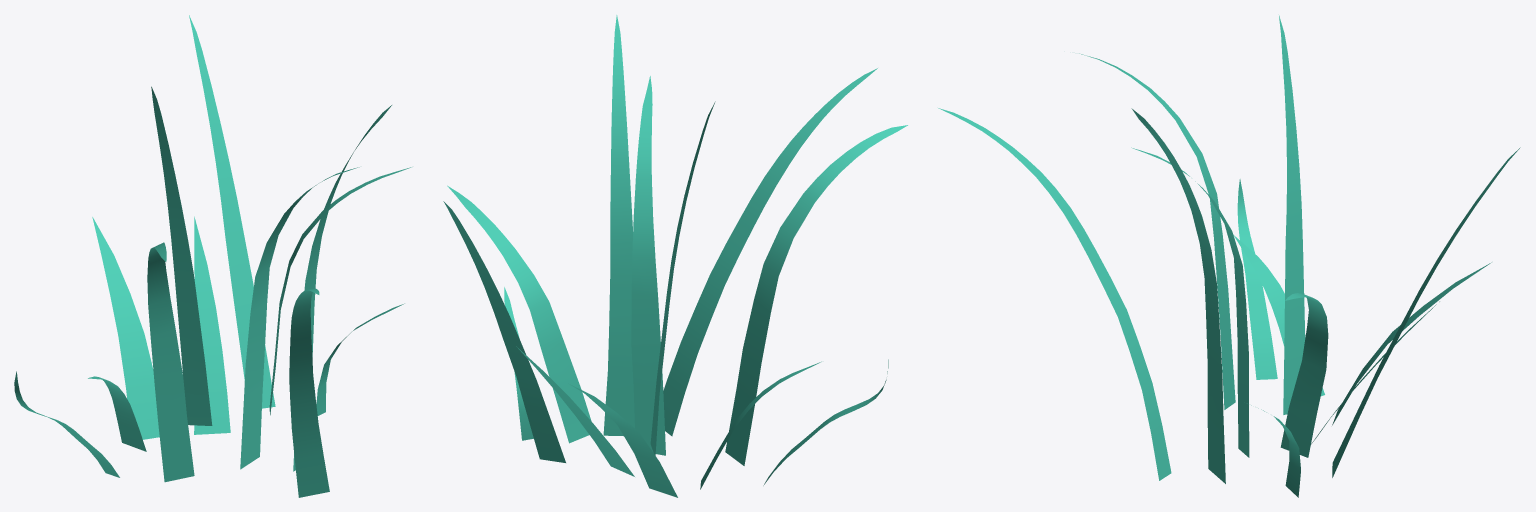
File: coral_grass_C_light.fbx
3 views of the same model, side by side, from view 1: azimuth 30°, elevation 25°; view 2: azimuth 150°, elevation 25°; view 3: azimuth 270°, elevation 25° (orthographic). The views are drawn at different scales.
Visible parts, largest first — view 1: coral_grass_C_leaf_C, coral_grass_C_leaf_E, coral_grass_C_leaf_G, coral_grass_C_leaf_A, coral_grass_C_leaf_L, coral_grass_C_leaf_D, coral_grass_C_leaf_K, coral_grass_C_leaf_B, coral_grass_C_leaf_H, coral_grass_C_leaf_F, coral_grass_C_leaf_I, coral_grass_C_leaf_J; view 2: coral_grass_C_leaf_B, coral_grass_C_leaf_D, coral_grass_C_leaf_C, coral_grass_C_leaf_A, coral_grass_C_leaf_F, coral_grass_C_leaf_G, coral_grass_C_leaf_L, coral_grass_C_leaf_E, coral_grass_C_leaf_K, coral_grass_C_leaf_H, coral_grass_C_leaf_J, coral_grass_C_leaf_I; view 3: coral_grass_C_leaf_E, coral_grass_C_leaf_B, coral_grass_C_leaf_A, coral_grass_C_leaf_F, coral_grass_C_leaf_C, coral_grass_C_leaf_I, coral_grass_C_leaf_D, coral_grass_C_leaf_G, coral_grass_C_leaf_H, coral_grass_C_leaf_L, coral_grass_C_leaf_J.
Part boxes in pixels (left/top/right/bottom): coral_grass_C_leaf_C: left=147, top=242, right=194, bottom=482; coral_grass_C_leaf_E: left=151, top=86, right=212, bottom=425; coral_grass_C_leaf_G: left=189, top=15, right=275, bottom=408; coral_grass_C_leaf_A: left=289, top=288, right=329, bottom=497; coral_grass_C_leaf_L: left=92, top=217, right=159, bottom=439; coral_grass_C_leaf_D: left=240, top=167, right=359, bottom=469; coral_grass_C_leaf_K: left=194, top=216, right=230, bottom=434; coral_grass_C_leaf_B: left=293, top=105, right=391, bottom=471; coral_grass_C_leaf_H: left=88, top=376, right=146, bottom=451; coral_grass_C_leaf_F: left=269, top=167, right=411, bottom=415; coral_grass_C_leaf_I: left=14, top=371, right=119, bottom=477; coral_grass_C_leaf_J: left=316, top=303, right=404, bottom=415; coral_grass_C_leaf_B: left=603, top=15, right=634, bottom=436; coral_grass_C_leaf_D: left=631, top=76, right=665, bottom=455; coral_grass_C_leaf_C: left=725, top=125, right=907, bottom=465; coral_grass_C_leaf_A: left=663, top=68, right=877, bottom=436; coral_grass_C_leaf_F: left=447, top=185, right=591, bottom=443; coral_grass_C_leaf_G: left=443, top=201, right=565, bottom=462; coral_grass_C_leaf_L: left=568, top=383, right=677, bottom=497; coral_grass_C_leaf_E: left=650, top=101, right=715, bottom=455; coral_grass_C_leaf_K: left=516, top=346, right=634, bottom=476; coral_grass_C_leaf_H: left=700, top=361, right=821, bottom=489; coral_grass_C_leaf_J: left=504, top=287, right=533, bottom=440; coral_grass_C_leaf_I: left=763, top=359, right=888, bottom=485; coral_grass_C_leaf_E: left=1279, top=15, right=1305, bottom=414; coral_grass_C_leaf_B: left=1131, top=108, right=1225, bottom=483; coral_grass_C_leaf_A: left=938, top=108, right=1171, bottom=480; coral_grass_C_leaf_F: left=1280, top=293, right=1328, bottom=457; coral_grass_C_leaf_C: left=1079, top=53, right=1235, bottom=409; coral_grass_C_leaf_I: left=1237, top=179, right=1277, bottom=379; coral_grass_C_leaf_D: left=1131, top=147, right=1249, bottom=457; coral_grass_C_leaf_G: left=1332, top=147, right=1520, bottom=477; coral_grass_C_leaf_H: left=1233, top=235, right=1324, bottom=396; coral_grass_C_leaf_L: left=1332, top=262, right=1491, bottom=425; coral_grass_C_leaf_J: left=1247, top=403, right=1300, bottom=497.
Bounding box in the file's own units: 89.37 × 80.71 × 104.
